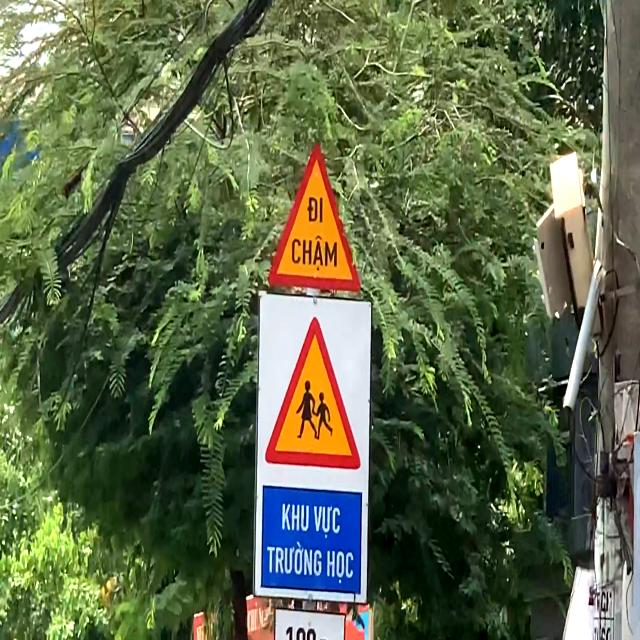W.225: (260, 310, 364, 481)
W.245a: (266, 134, 364, 302)
